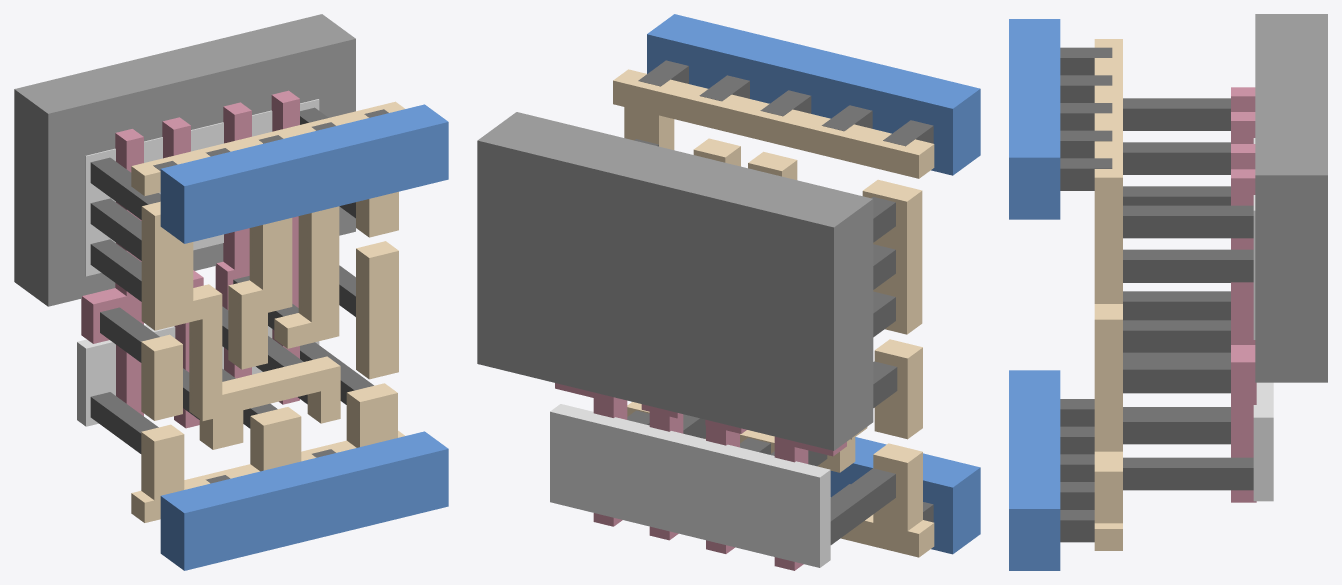
Rendered from sky130_fd_sc_hd__nor4_1.gds.gltf.
3 views of the same model, side by side, from view 1: azimuth 30°, elevation 25°; view 2: azimuth 150°, elevation 25°; view 3: azimuth 270°, elevation 25° (orthographic). The views are drawn at different scales.
Parts seen in each view (by area): view 1: sky130_fd_sc_hd__nor4_1_li1, sky130_fd_sc_hd__nor4_1_met1, sky130_fd_sc_hd__nor4_1_nwell, sky130_fd_sc_hd__nor4_1_licon, sky130_fd_sc_hd__nor4_1_poly, sky130_fd_sc_hd__nor4_1_diff, sky130_fd_sc_hd__nor4_1_mcon; view 2: sky130_fd_sc_hd__nor4_1_nwell, sky130_fd_sc_hd__nor4_1_li1, sky130_fd_sc_hd__nor4_1_diff, sky130_fd_sc_hd__nor4_1_met1, sky130_fd_sc_hd__nor4_1_licon, sky130_fd_sc_hd__nor4_1_poly, sky130_fd_sc_hd__nor4_1_mcon; view 3: sky130_fd_sc_hd__nor4_1_licon, sky130_fd_sc_hd__nor4_1_nwell, sky130_fd_sc_hd__nor4_1_met1, sky130_fd_sc_hd__nor4_1_li1, sky130_fd_sc_hd__nor4_1_mcon, sky130_fd_sc_hd__nor4_1_poly, sky130_fd_sc_hd__nor4_1_diff.
Boxes of the visible parts, <box> form: sky130_fd_sc_hd__nor4_1_li1: <box>131,101,404,522</box>; sky130_fd_sc_hd__nor4_1_met1: <box>160,104,448,570</box>; sky130_fd_sc_hd__nor4_1_nwell: <box>14,14,355,306</box>; sky130_fd_sc_hd__nor4_1_licon: <box>90,107,373,453</box>; sky130_fd_sc_hd__nor4_1_poly: <box>81,90,299,428</box>; sky130_fd_sc_hd__nor4_1_diff: <box>77,99,319,426</box>; sky130_fd_sc_hd__nor4_1_mcon: <box>153,109,388,483</box>; sky130_fd_sc_hd__nor4_1_nwell: <box>477,112,873,450</box>; sky130_fd_sc_hd__nor4_1_li1: <box>613,69,934,557</box>; sky130_fd_sc_hd__nor4_1_diff: <box>550,404,830,567</box>; sky130_fd_sc_hd__nor4_1_met1: <box>647,14,980,554</box>; sky130_fd_sc_hd__nor4_1_licon: <box>627,139,897,544</box>; sky130_fd_sc_hd__nor4_1_poly: <box>555,383,846,570</box>; sky130_fd_sc_hd__nor4_1_mcon: <box>638,60,933,522</box>; sky130_fd_sc_hd__nor4_1_licon: <box>1123,98,1253,490</box>; sky130_fd_sc_hd__nor4_1_nwell: <box>1255,14,1327,382</box>; sky130_fd_sc_hd__nor4_1_met1: <box>1009,19,1060,570</box>; sky130_fd_sc_hd__nor4_1_li1: <box>1094,39,1122,550</box>; sky130_fd_sc_hd__nor4_1_mcon: <box>1060,47,1112,542</box>; sky130_fd_sc_hd__nor4_1_poly: <box>1231,87,1256,502</box>; sky130_fd_sc_hd__nor4_1_diff: <box>1253,138,1273,501</box>.
Bounding box in the file's own units: 2.68 × 3.2 × 2.24.
